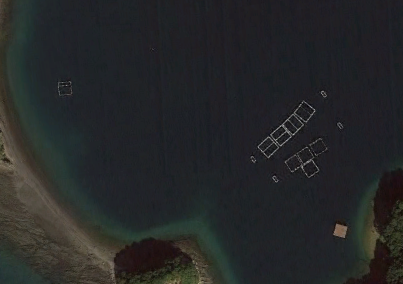square: (280, 112, 306, 138), (293, 97, 317, 124), (269, 122, 293, 149), (256, 135, 280, 159), (55, 76, 77, 98), (283, 152, 304, 174), (301, 158, 321, 181), (331, 220, 351, 241), (308, 136, 328, 157), (295, 145, 316, 164)
